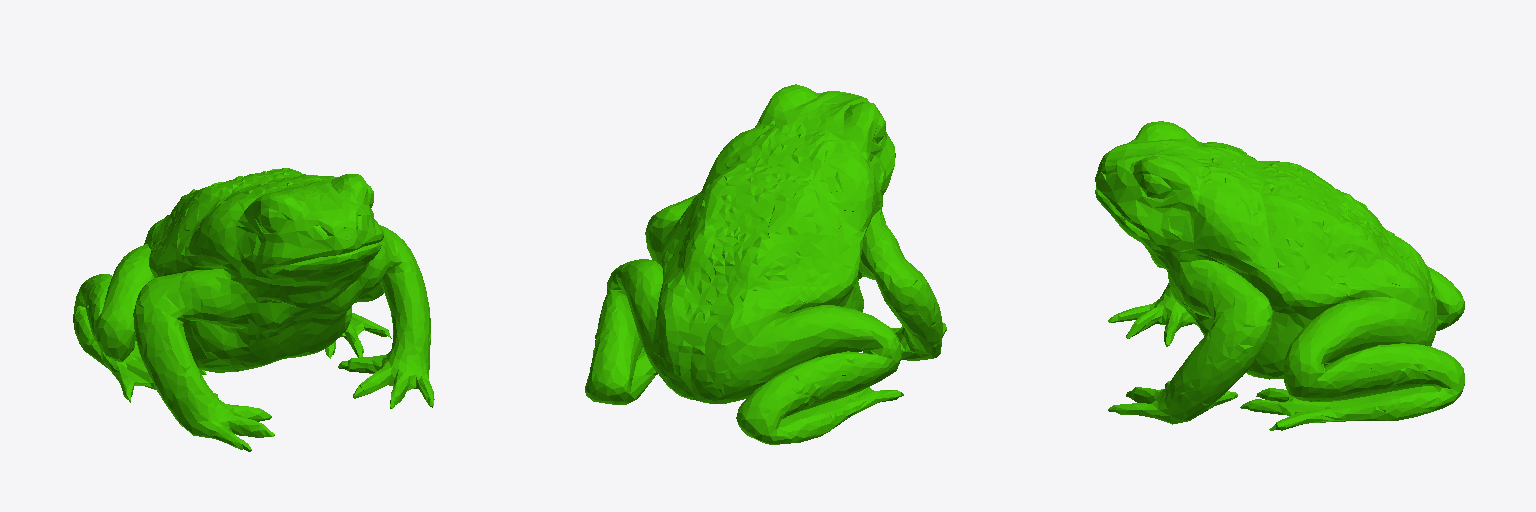
File: toad.obj
The picture shows the model from 3 angles: view 1: azimuth 30°, elevation 25°; view 2: azimuth 150°, elevation 25°; view 3: azimuth 270°, elevation 25°; orthographic projection.
Visible parts, largest first — view 1: toad; view 2: toad; view 3: toad.
Part boxes in pixels (x1,y1,x2,y2): toad: (73, 168, 434, 451); toad: (585, 84, 946, 444); toad: (1095, 121, 1464, 430).
Size of the model in its own units: 4.26 by 3.24 by 4.73.